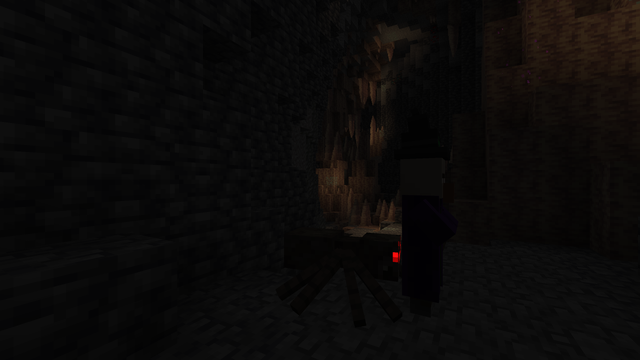araignees: (283, 219, 392, 327)
sorcieres: (393, 150, 450, 324)
